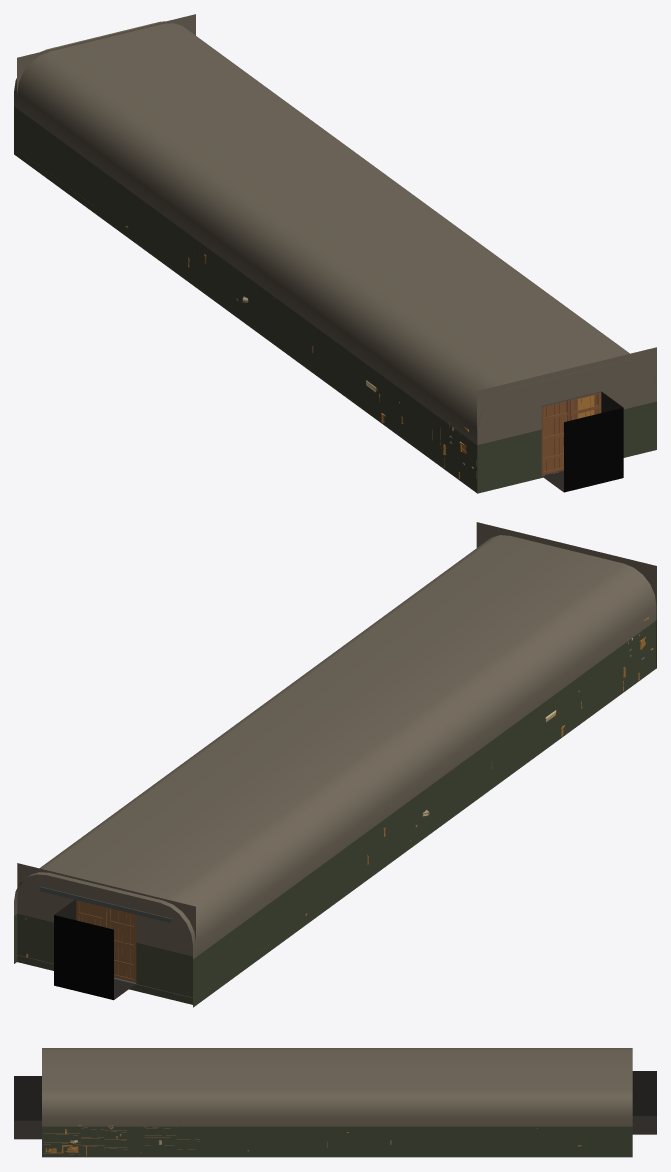
Rendered from basement.glb.
3 views of the same model, one above another, from view 1: azimuth 30°, elevation 25°; view 2: azimuth 150°, elevation 25°; view 3: azimuth 270°, elevation 25° (orthographic). The views are drawn at different scales.
Visible parts, largest first — view 1: Basement, SouthDoorwayRecess; view 2: Basement, NorthDoorwayRecess; view 3: Basement, SouthDoorwayRecess, NorthDoorwayRecess.
Boxes of the visible parts, x1,y1,x2,y2 form: Basement: (14,14,656,493); SouthDoorwayRecess: (542,391,623,492); Basement: (14,522,656,1007); NorthDoorwayRecess: (54,899,135,1000); Basement: (42,1048,632,1157); SouthDoorwayRecess: (14,1076,41,1139); NorthDoorwayRecess: (632,1071,656,1134).
Bounding box in the file's own units: 11.7 × 6.17 × 54.45.
Materials: 11 (9 with a texture image).
